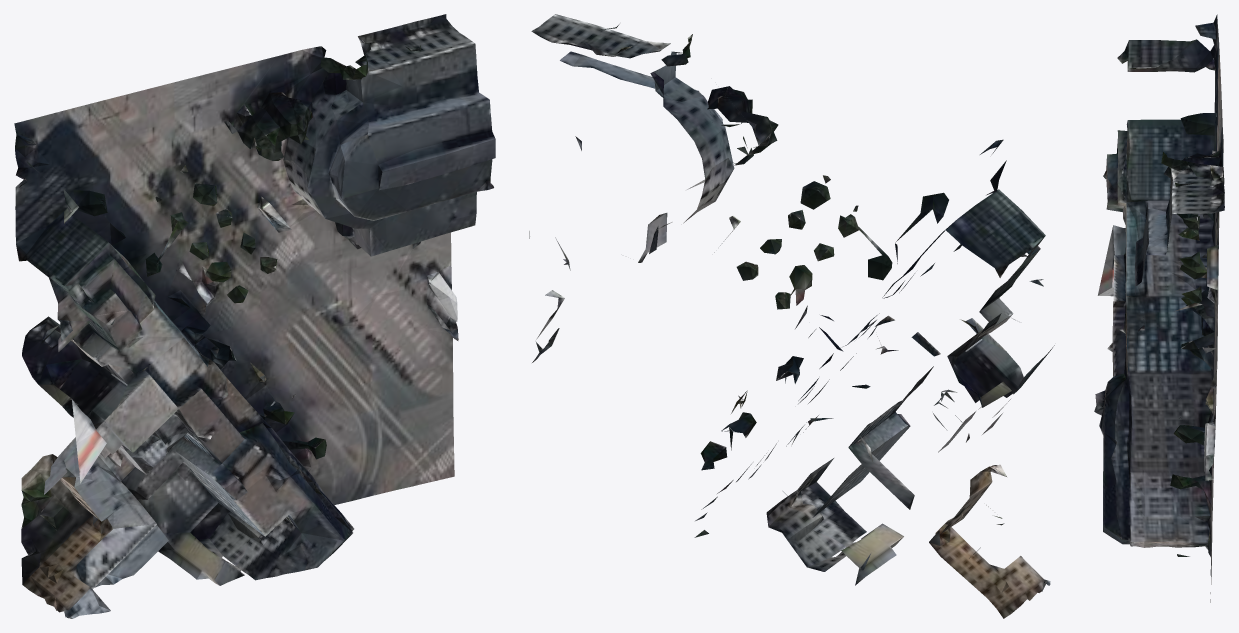
File: Tile_+034_+019_L17_0002.glb
The picture shows the model from 3 angles, left to right: view 1: azimuth 30°, elevation 25°; view 2: azimuth 150°, elevation 25°; view 3: azimuth 270°, elevation 25°; orthographic projection. The views are drawn at different scales.
Bounding box in the file's own units: 126 × 126 × 36.19.
1 material, 1 textured.
